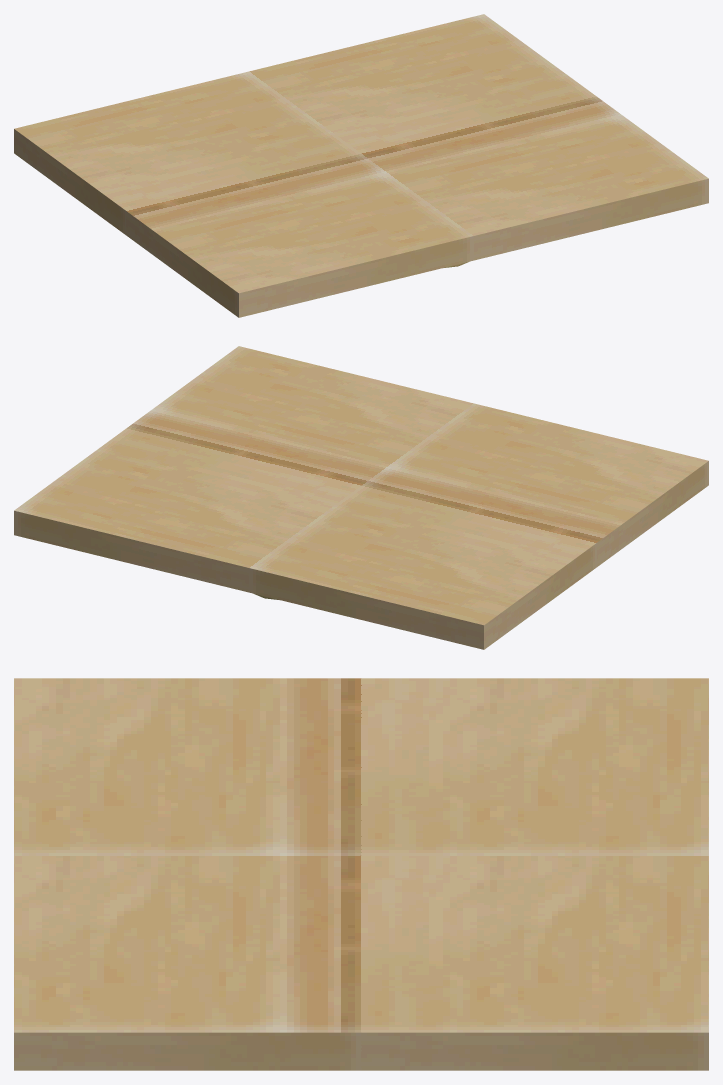
3 views of the same model, one above another, from view 1: azimuth 30°, elevation 25°; view 2: azimuth 150°, elevation 25°; view 3: azimuth 270°, elevation 25° (orthographic). The views are drawn at different scales.
Parts seen in each view (by area): view 1: 1116item587; view 2: 1116item587; view 3: 1116item587.
Part boxes in pixels (bbox=[...]): 1116item587: bbox=[14, 14, 708, 317]; 1116item587: bbox=[14, 346, 708, 649]; 1116item587: bbox=[14, 678, 708, 1070].
Bounding box in the file's own units: 1.33 × 0.1123 × 1.1.
5 materials, 5 textured.
